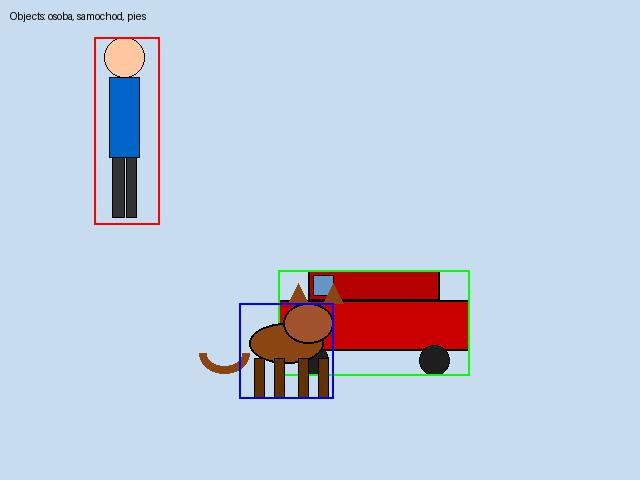osoba: (94, 37, 159, 224)
pies: (239, 303, 333, 398)
samochod: (278, 270, 469, 375)
